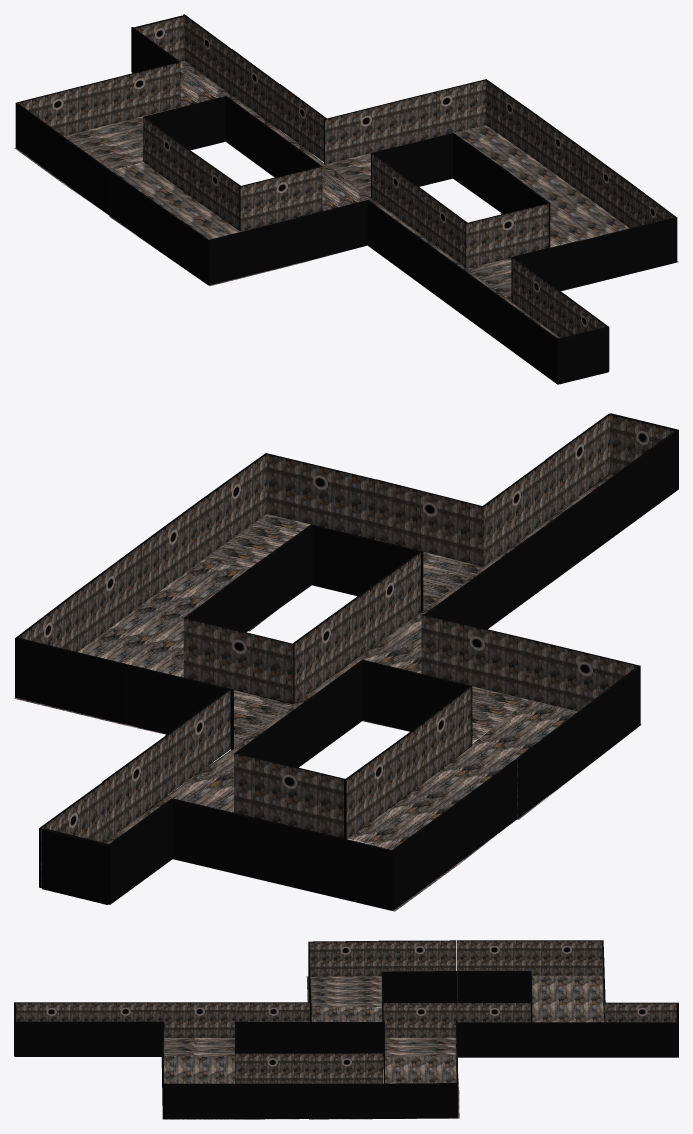
The model's file is shipwreckscene1.fbx.
The picture shows the model from 3 angles, top to bottom: view 1: azimuth 30°, elevation 25°; view 2: azimuth 150°, elevation 25°; view 3: azimuth 270°, elevation 25°; orthographic projection. The views are drawn at different scales.
Visible parts, largest first — view 1: polySurface1328; view 2: polySurface1328; view 3: polySurface1328.
Boxes of the visible parts, <box> form: polySurface1328: <box>14,14,678,384</box>; polySurface1328: <box>14,413,678,911</box>; polySurface1328: <box>14,940,678,1119</box>.
Bounding box in the file's own units: 186 × 21.12 × 360.
10 materials, 10 textured.
